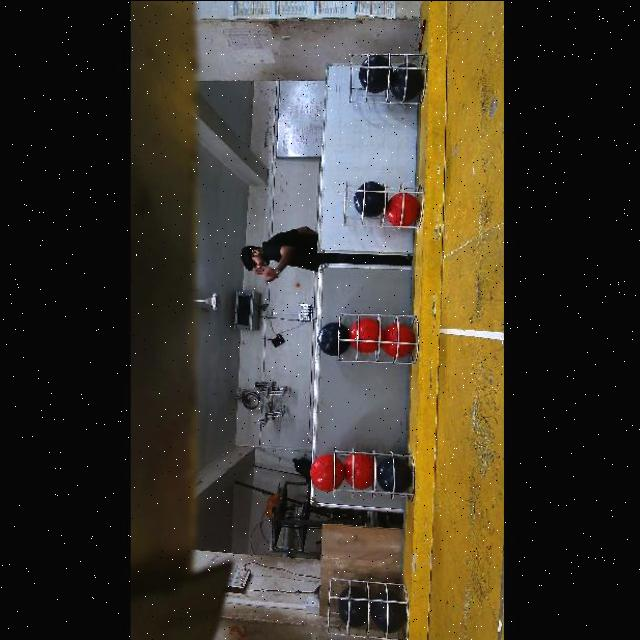P: (368, 589, 405, 631), (387, 61, 422, 102), (374, 458, 411, 493), (337, 586, 368, 627), (357, 53, 389, 92), (354, 179, 386, 218), (316, 322, 349, 356)
R: (347, 317, 382, 353), (309, 455, 343, 491), (342, 454, 375, 489), (384, 194, 419, 226), (381, 323, 413, 357)
S: (322, 576, 414, 640), (338, 53, 430, 113), (334, 310, 411, 372), (328, 447, 410, 505), (341, 180, 423, 230)
